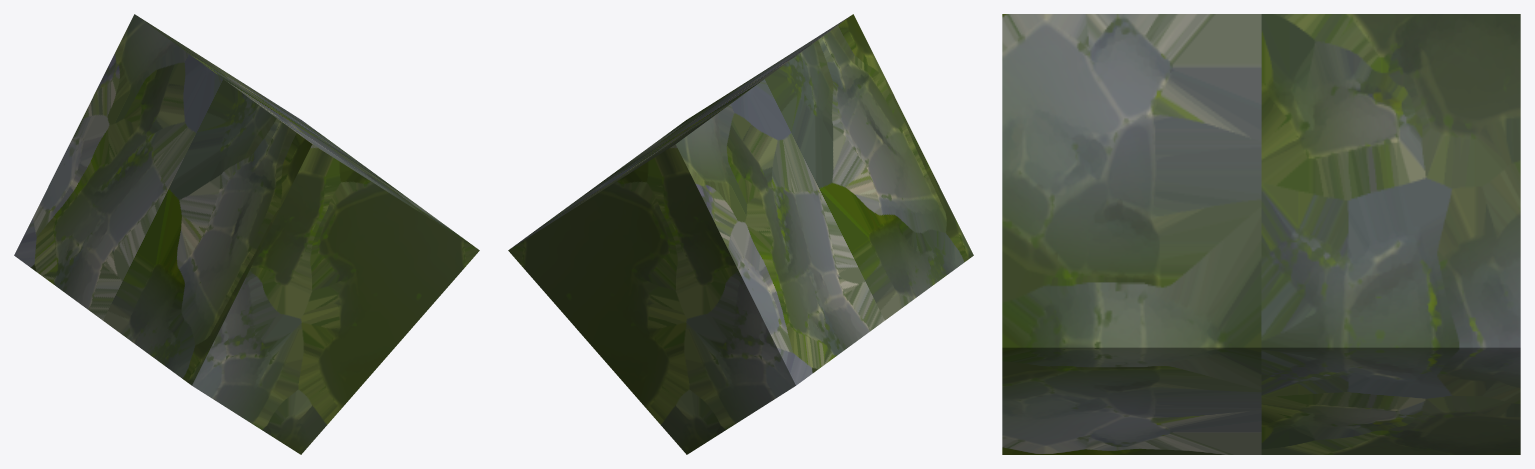
File: Arch_Voussoir_03.glb
The picture shows the model from 3 angles, left to right: view 1: azimuth 30°, elevation 25°; view 2: azimuth 150°, elevation 25°; view 3: azimuth 270°, elevation 25°; orthographic projection. The views are drawn at different scales.
Parts seen in each view (by area): view 1: Arch_Voussoir_03__Arch_Voussoir_03; view 2: Arch_Voussoir_03__Arch_Voussoir_03; view 3: Arch_Voussoir_03__Arch_Voussoir_03.
Part boxes in pixels (x1=…): Arch_Voussoir_03__Arch_Voussoir_03: x1=14, y1=14, x2=479, y2=454; Arch_Voussoir_03__Arch_Voussoir_03: x1=508, y1=14, x2=973, y2=454; Arch_Voussoir_03__Arch_Voussoir_03: x1=1002, y1=14, x2=1520, y2=454.
Bounding box in the file's own units: 0.9158 × 0.9362 × 0.98.
1 material, 1 textured.
